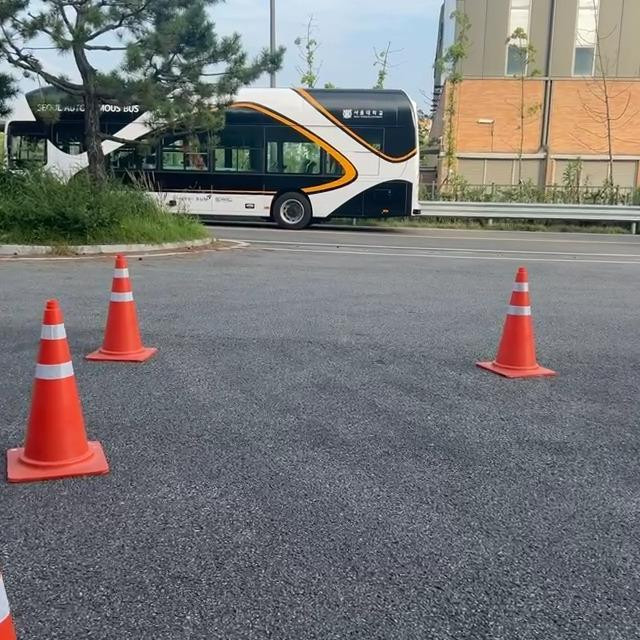fallen_object: (10, 279, 110, 504), (453, 263, 579, 423), (95, 243, 173, 378), (0, 548, 60, 640)
